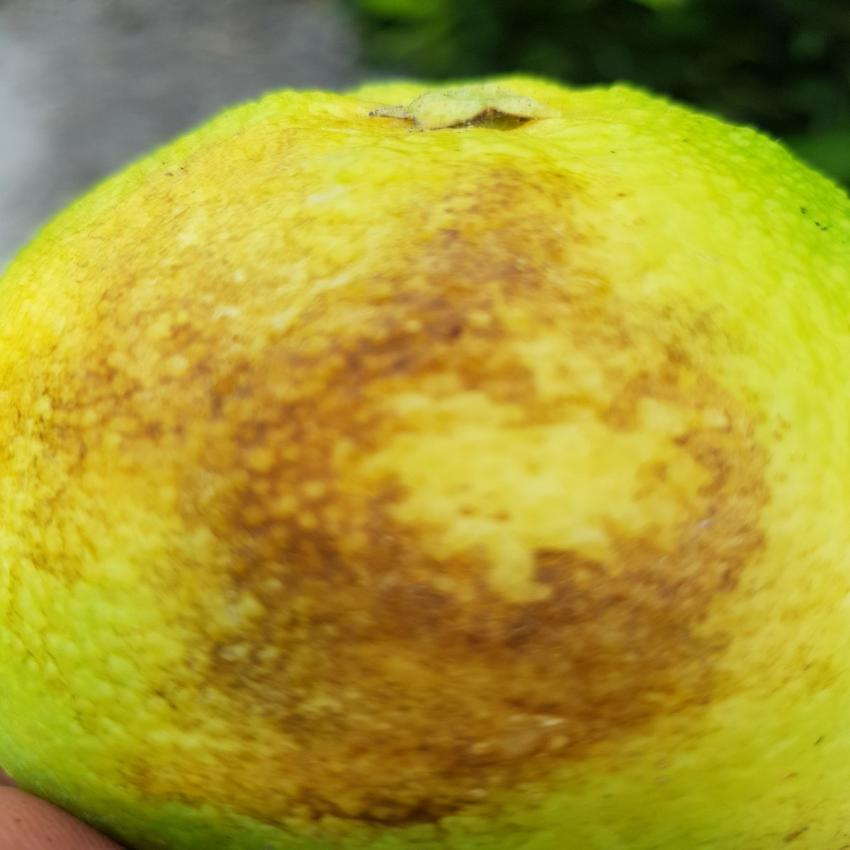Mal estado: (0, 36, 848, 841)
